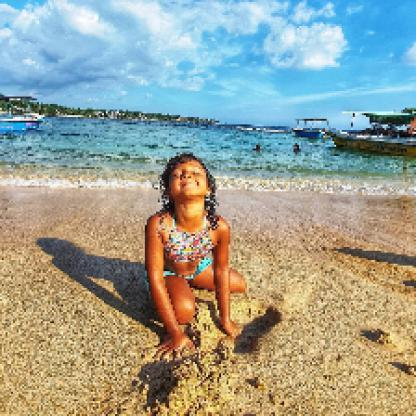child: (143, 154, 249, 364)
